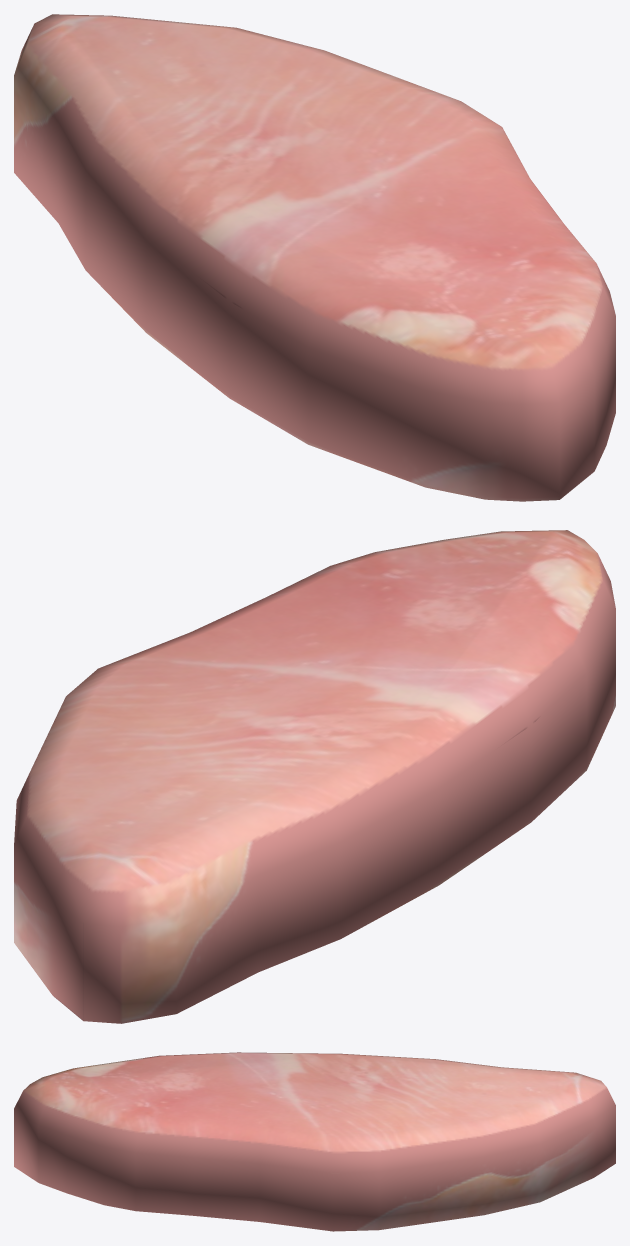
Rendered from chicken_cooked.fbx.
3 views of the same model, one above another, from view 1: azimuth 30°, elevation 25°; view 2: azimuth 150°, elevation 25°; view 3: azimuth 270°, elevation 25° (orthographic). The views are drawn at different scales.
Visible parts, largest first — view 1: Plane.008; view 2: Plane.008; view 3: Plane.008.
Boxes of the visible parts, x1,y1,x2,y2 form: Plane.008: [14, 14, 615, 501]; Plane.008: [14, 530, 615, 1023]; Plane.008: [14, 1052, 615, 1231].
Size of the model in its own units: 19.91 by 7.23 by 47.48.
